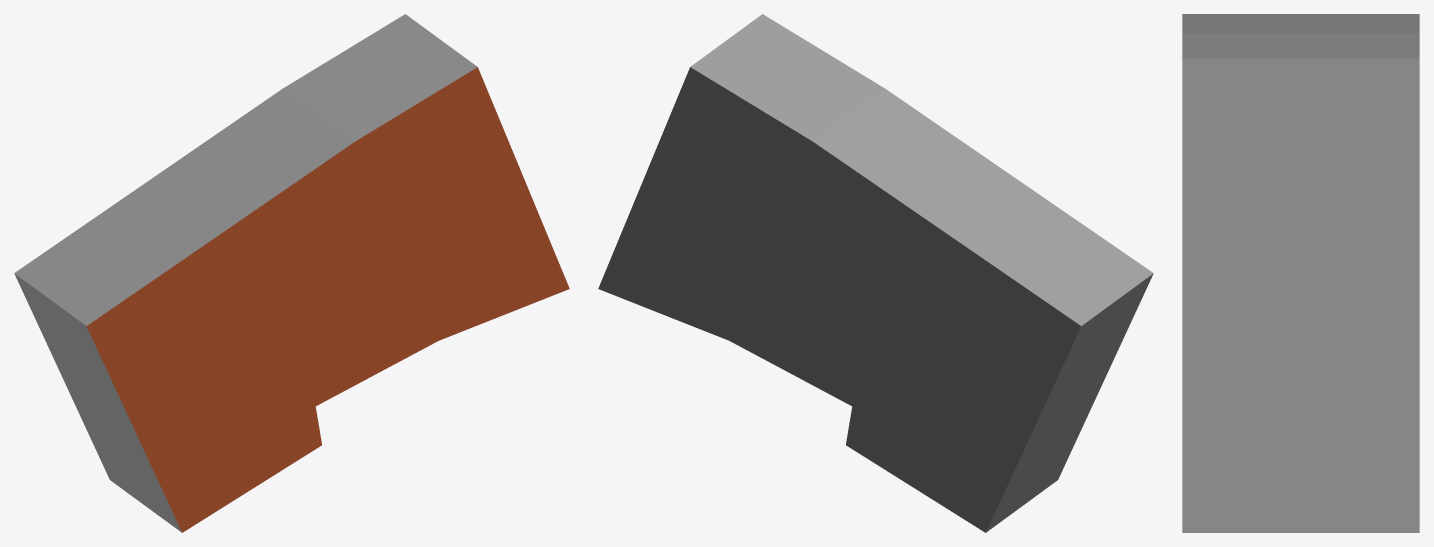
Rendered from construction_6008_assumed_A_Casa_h6m.obj.
3 views of the same model, side by side, from view 1: azimuth 30°, elevation 25°; view 2: azimuth 150°, elevation 25°; view 3: azimuth 270°, elevation 25° (orthographic). The views are drawn at different scales.
Visible parts, largest first — view 1: construction_6008_assumed_A_Casa; view 2: construction_6008_assumed_A_Casa; view 3: construction_6008_assumed_A_Casa.
Boxes of the visible parts, left/top/right/bottom form: construction_6008_assumed_A_Casa: left=14, top=14, right=569, bottom=532; construction_6008_assumed_A_Casa: left=598, top=14, right=1153, bottom=532; construction_6008_assumed_A_Casa: left=1182, top=14, right=1419, bottom=532.
Size of the model in its own units: 23.12 by 18 by 6.
